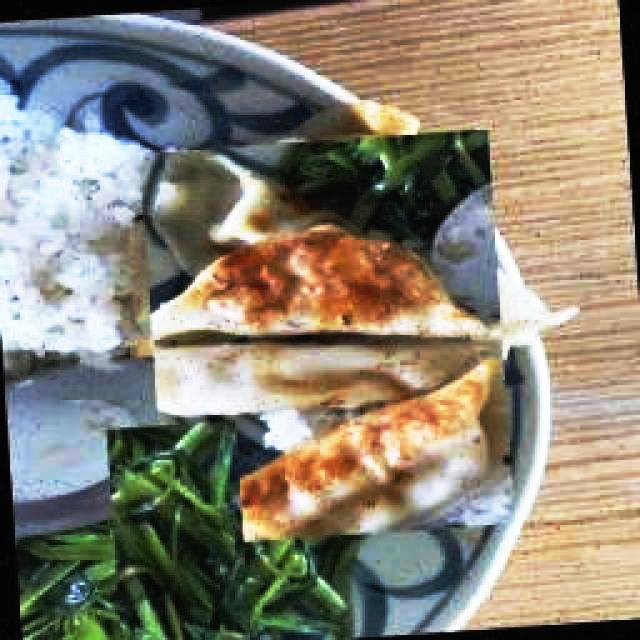fried_dumplings: (151, 232, 576, 348), (239, 365, 511, 544), (156, 345, 486, 415)
rice: (0, 85, 159, 365)
water_spinach: (111, 430, 352, 640), (289, 134, 490, 236), (14, 533, 175, 640)
